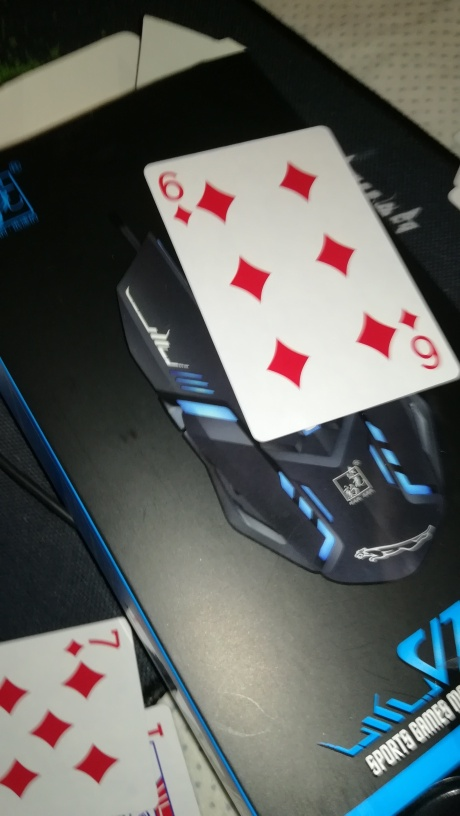fk 6: (142, 123, 460, 443)
